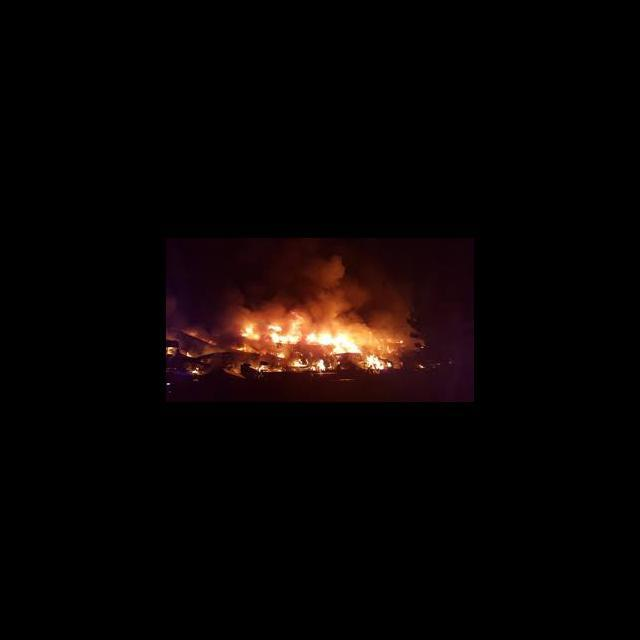Fire: (306, 326, 362, 354), (266, 312, 300, 344), (366, 352, 392, 372), (240, 322, 260, 341), (256, 362, 282, 373), (310, 359, 327, 372), (291, 356, 306, 369), (235, 344, 249, 352), (190, 364, 200, 374), (184, 349, 192, 359), (276, 351, 286, 358), (168, 346, 174, 356)
Smoke: (302, 258, 360, 318), (252, 248, 300, 309), (366, 288, 410, 330), (208, 286, 247, 320)
